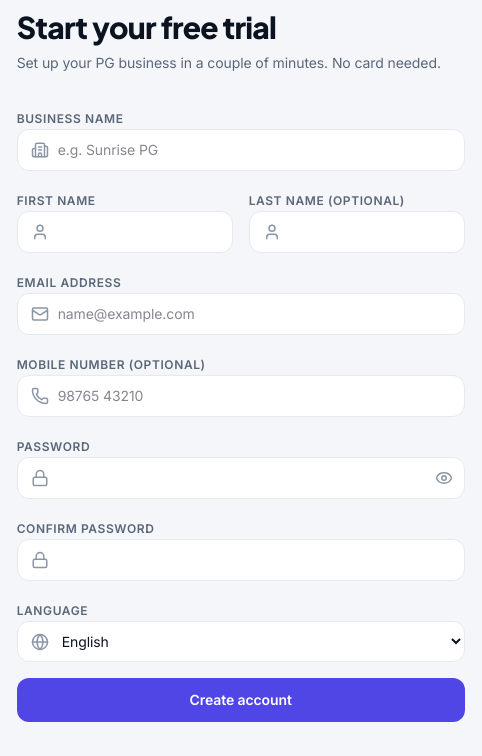
SignupForm › a network failure gets the unreachable message
The image size is (482, 756).
Type "Sunrise PG" into the field labelled "Business name" at (241, 150), box x1=17 y1=129 x2=465 y2=171
Type "Ramesh" into the field labelled "First name" at (125, 232), box x1=17 y1=211 x2=233 y2=253
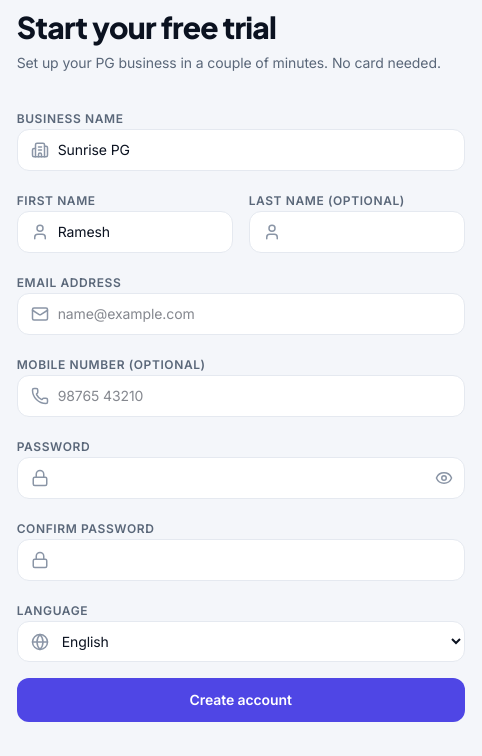
Type " ramesh@example.com " into the field labelled "Email Address" at (241, 314), box x1=17 y1=293 x2=465 y2=335
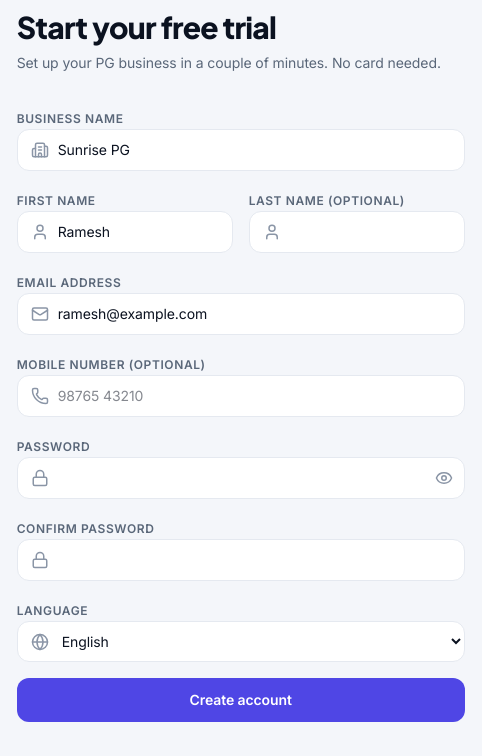
Type "+91 98765 43210" into the field labelled "Mobile number (optional)" at (241, 396), box x1=17 y1=375 x2=465 y2=417
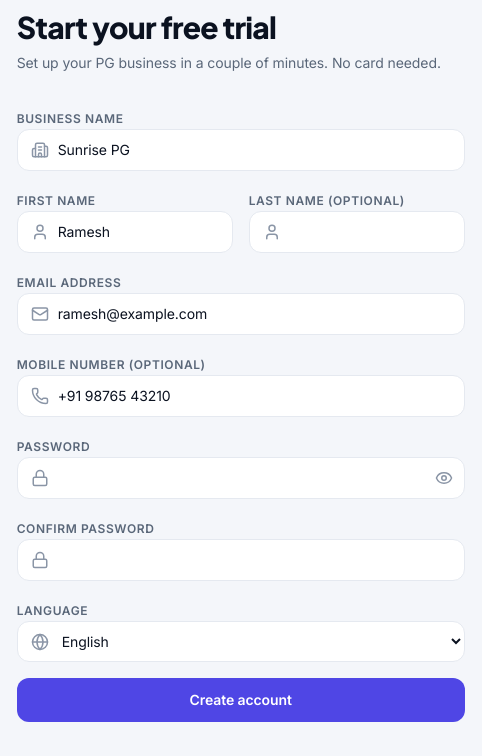
Type "Vintage-Kite-77" into the password field labelled "Password" at (241, 478), box x1=17 y1=457 x2=465 y2=499
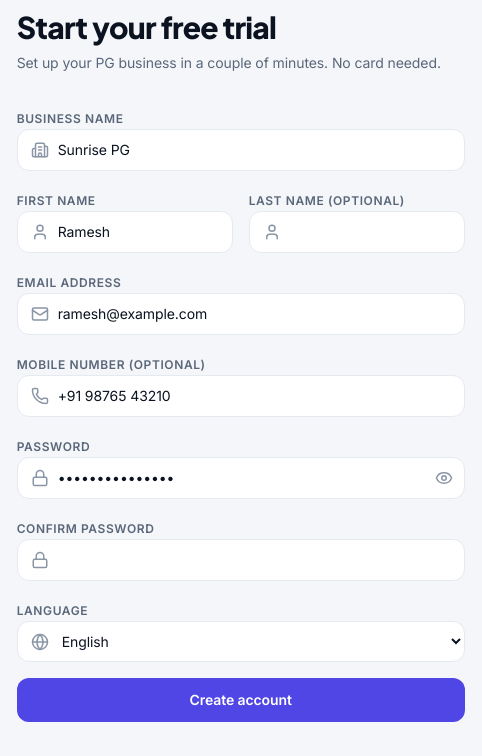
Type "Vintage-Kite-77" into the password field labelled "Confirm password" at (241, 560), box x1=17 y1=539 x2=465 y2=581
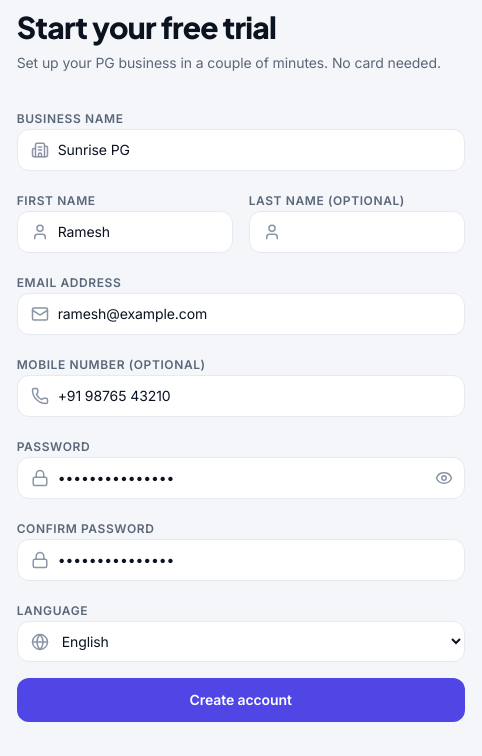
Click the button "Create account" at (241, 700), box x1=17 y1=678 x2=465 y2=722
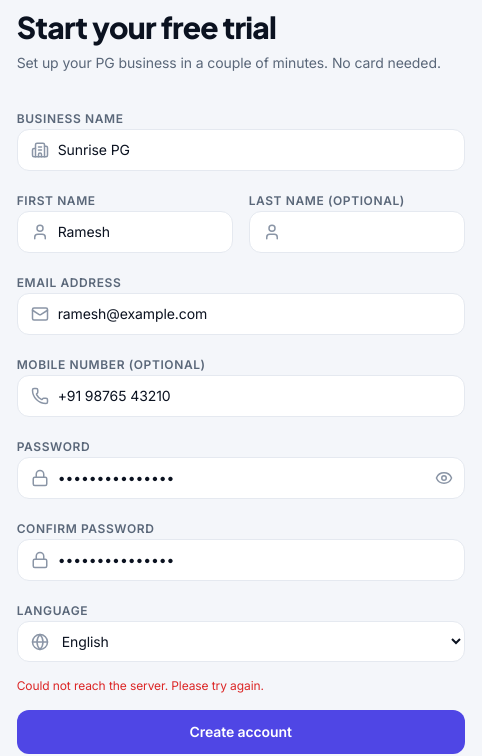
Check: the message reads "Could not reach the server. Please try again.", box x1=17 y1=678 x2=264 y2=693
